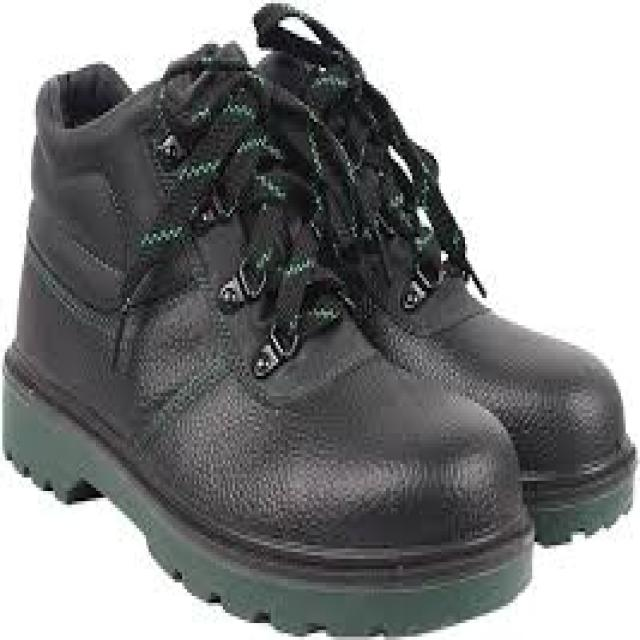shoes: (5, 9, 635, 633)
